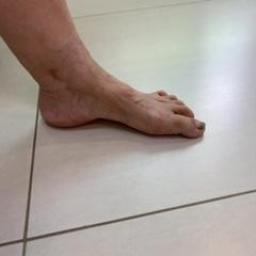Medial View -Left Foot-: (13, 35, 225, 168)
